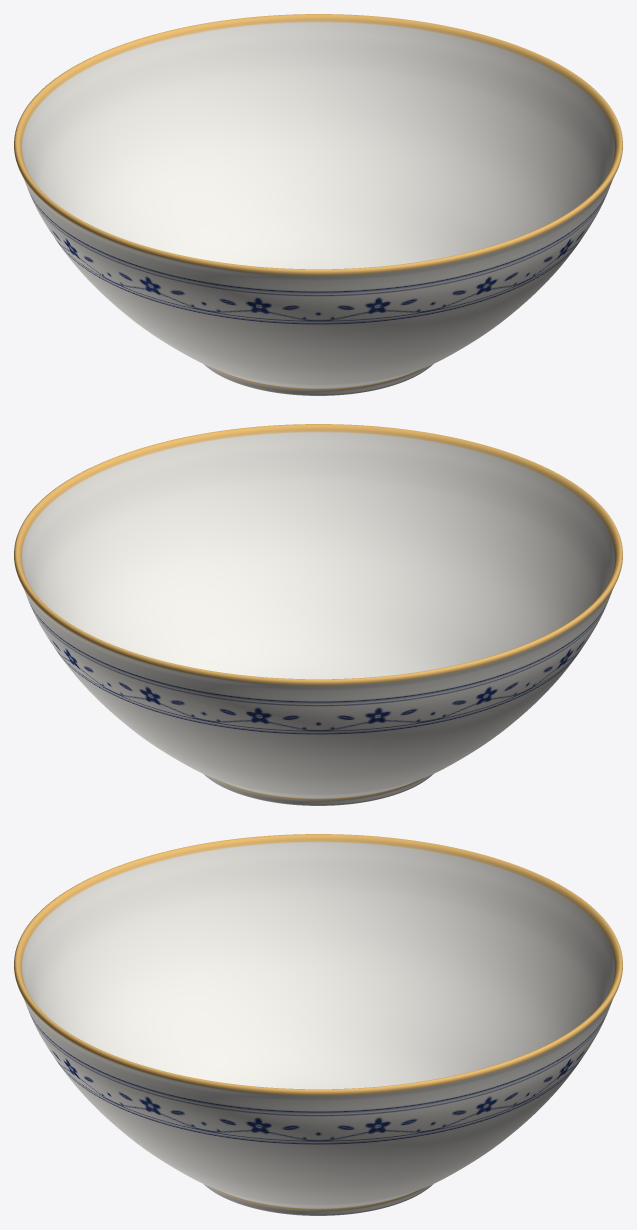
Rendered from bowl.glb.
The picture shows the model from 3 angles, top to bottom: view 1: azimuth 30°, elevation 25°; view 2: azimuth 150°, elevation 25°; view 3: azimuth 270°, elevation 25°; orthographic projection.
Parts seen in each view (by area): view 1: bowl; view 2: bowl; view 3: bowl.
Boxes of the visible parts, bbox=[...] form: bowl: bbox=[14, 14, 622, 395]; bowl: bbox=[14, 424, 622, 805]; bowl: bbox=[14, 834, 622, 1215].
Bounding box in the file's own units: 0.2103 × 0.0771 × 0.2103.
1 material, 1 textured.
